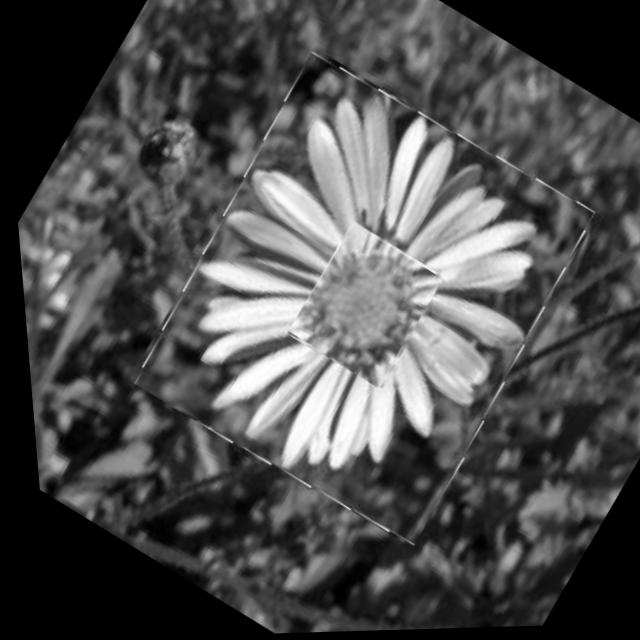Flower: (98, 43, 618, 560), (275, 223, 447, 395)
